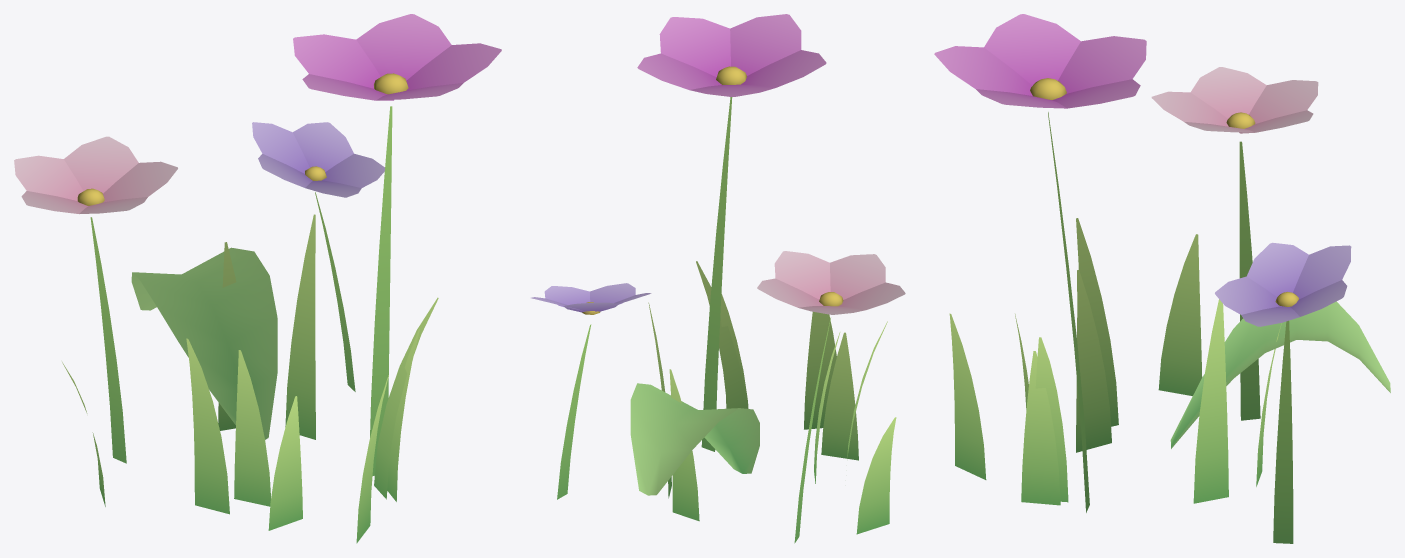
The model's file is plant_wild_2.glb.
3 views of the same model, side by side, from view 1: azimuth 30°, elevation 25°; view 2: azimuth 150°, elevation 25°; view 3: azimuth 270°, elevation 25° (orthographic). The views are drawn at different scales.
Visible parts, largest first — view 1: body; view 2: body; view 3: body.
Part boxes in pixels (x1,y1,x2,y2): body: [14, 14, 501, 543]; body: [531, 14, 905, 543]; body: [934, 14, 1390, 543].
Bounding box in the file's own units: 0.5499 × 0.6078 × 0.5607.
